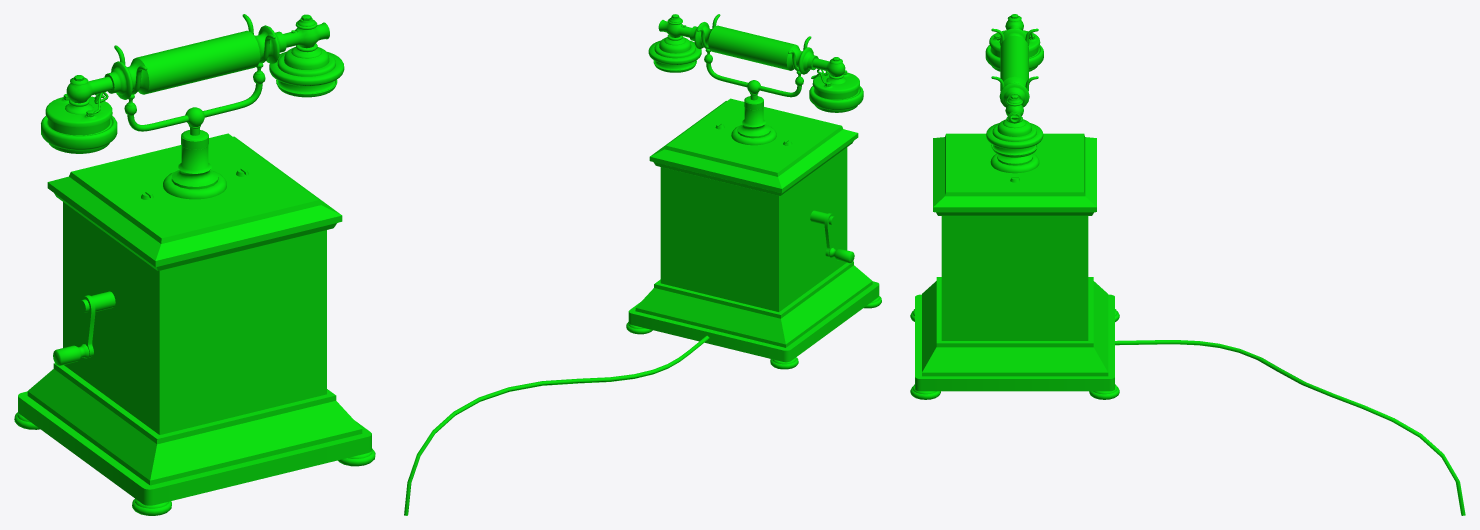
The model's file is Phone.fbx.
The picture shows the model from 3 angles, left to right: view 1: azimuth 30°, elevation 25°; view 2: azimuth 150°, elevation 25°; view 3: azimuth 270°, elevation 25°; orthographic projection. The views are drawn at different scales.
Visible parts, largest first — view 1: Phone, Phone_Handle, Phone_Charger; view 2: Phone, Phone_Handle, Phone_Charger; view 3: Phone, Phone_Handle.
Boxes of the visible parts, x1,y1,x2,y2 form: Phone: (14, 14, 375, 515); Phone_Handle: (41, 14, 344, 153); Phone_Charger: (53, 291, 115, 365); Phone: (404, 14, 881, 515); Phone_Handle: (648, 14, 863, 112); Phone_Charger: (810, 210, 854, 263); Phone: (910, 28, 1465, 515); Phone_Handle: (985, 14, 1043, 157).
Size of the model in its own units: 50.05 by 70.34 by 90.88.
